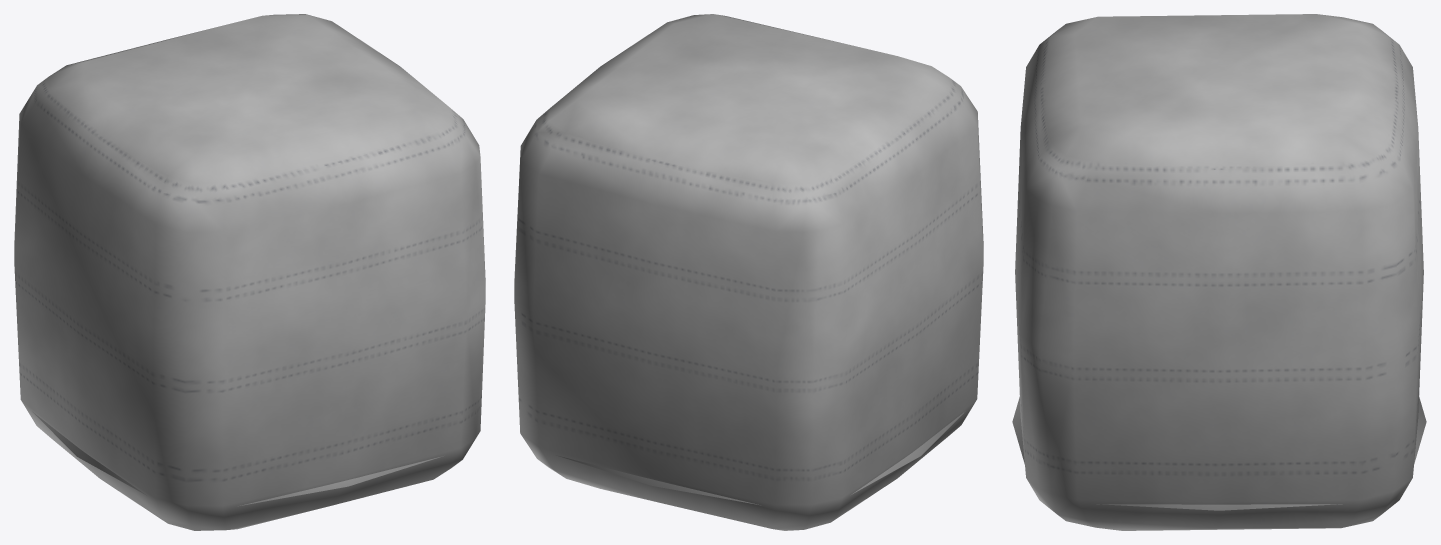
Rendered from RightLowerLeg_C1.fbx.
3 renders of one model, left to right at view 1: azimuth 30°, elevation 25°; view 2: azimuth 150°, elevation 25°; view 3: azimuth 270°, elevation 25°, orthographic. The views are drawn at different scales.
Parts seen in each view (by area): view 1: Civ_Jogging_RightLowerLeg_C1; view 2: Civ_Jogging_RightLowerLeg_C1; view 3: Civ_Jogging_RightLowerLeg_C1.
Boxes of the visible parts, left/top/right/bottom form: Civ_Jogging_RightLowerLeg_C1: left=14, top=14, right=485, bottom=530; Civ_Jogging_RightLowerLeg_C1: left=514, top=14, right=983, bottom=530; Civ_Jogging_RightLowerLeg_C1: left=1012, top=14, right=1426, bottom=530.
Bounding box in the file's own units: 1.29 × 1.37 × 1.28.
